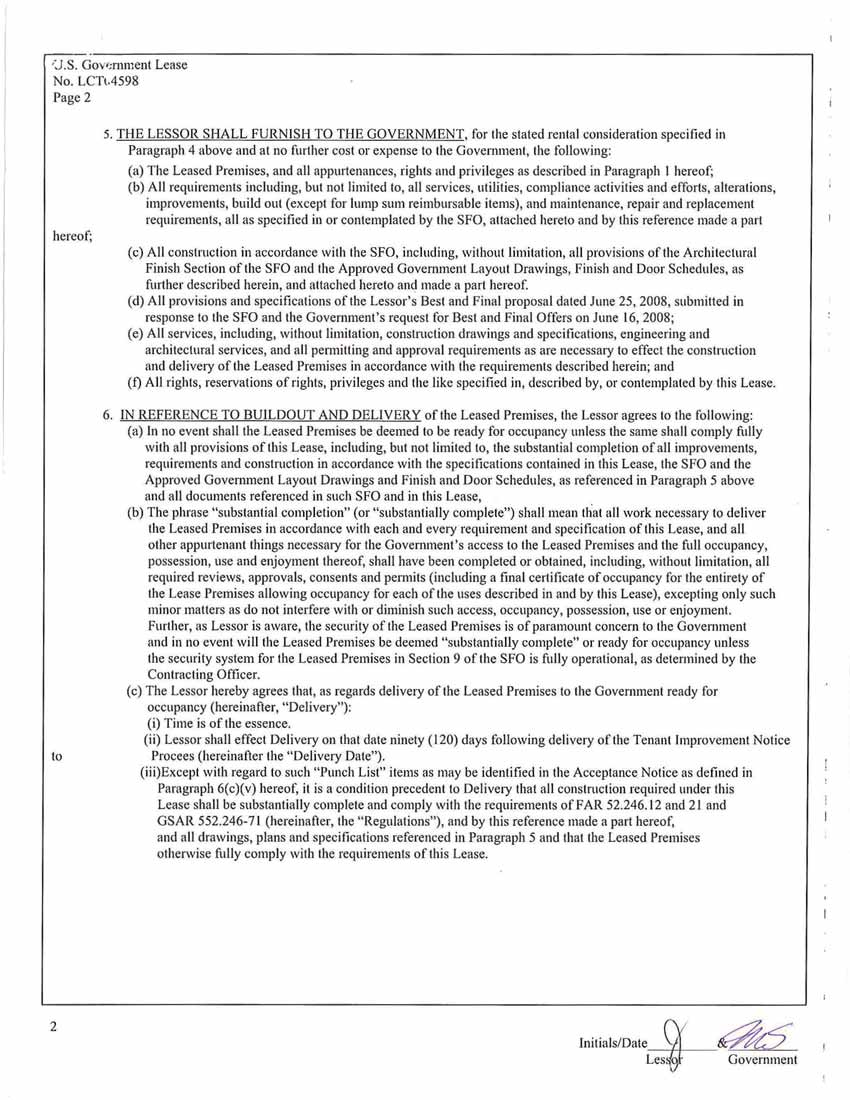handwritten: (713, 1014, 802, 1051), (652, 1015, 688, 1069)
